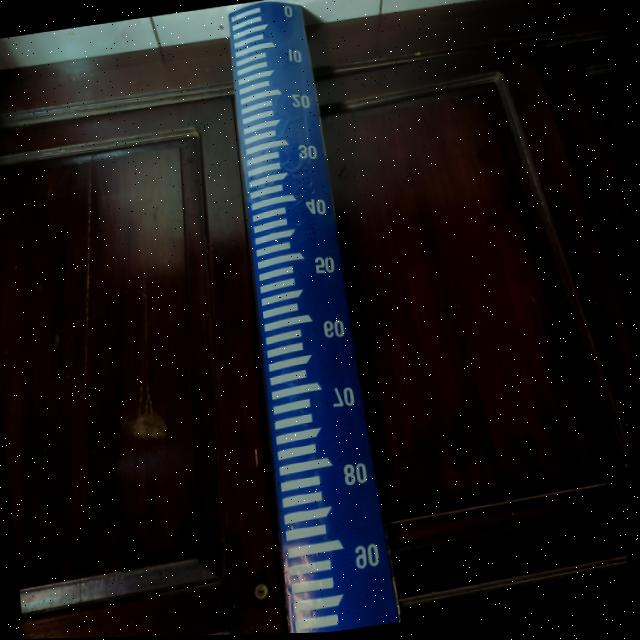water-meter: (198, 0, 420, 635)
